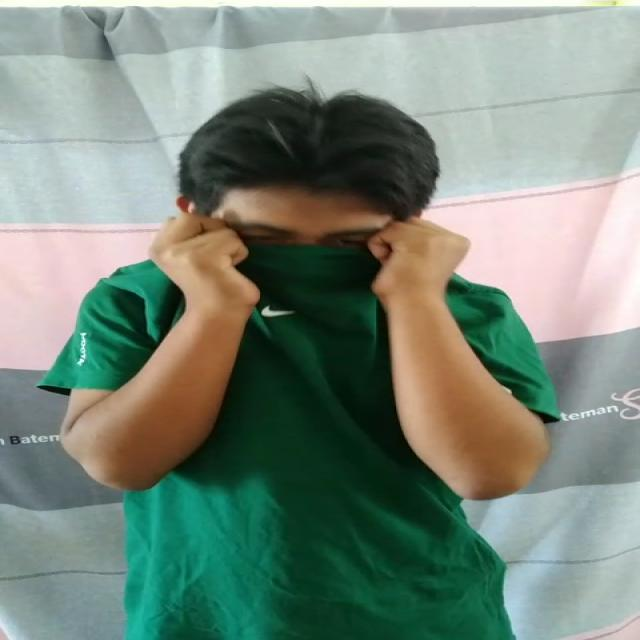8_ropa_rostro: (149, 234, 447, 368)
